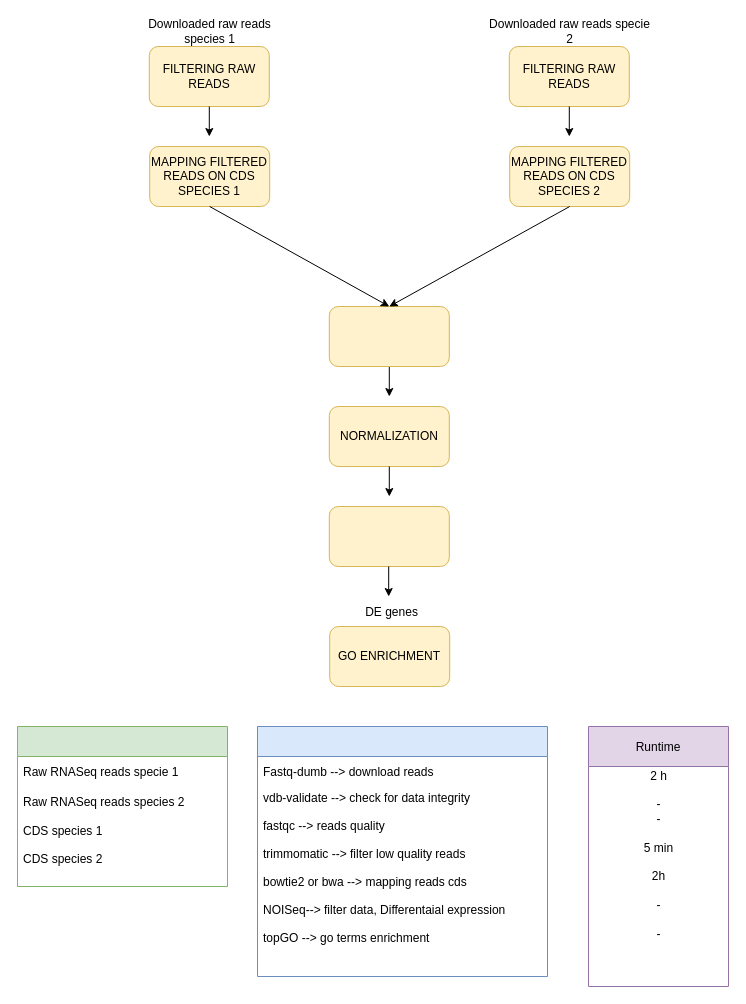
This 746x1004 diagram has some shape labels left out. The box of each missing label's shape, as (x1, y1, x2, y2) in pixels:
DIFFERENTIAL EXPRESSION (DE): (328, 506, 449, 566)
Input files: (16, 726, 228, 886)
SELECT SINGLE COPY ORTHOLOGS: (328, 306, 449, 366)
Tools: (256, 726, 548, 976)
